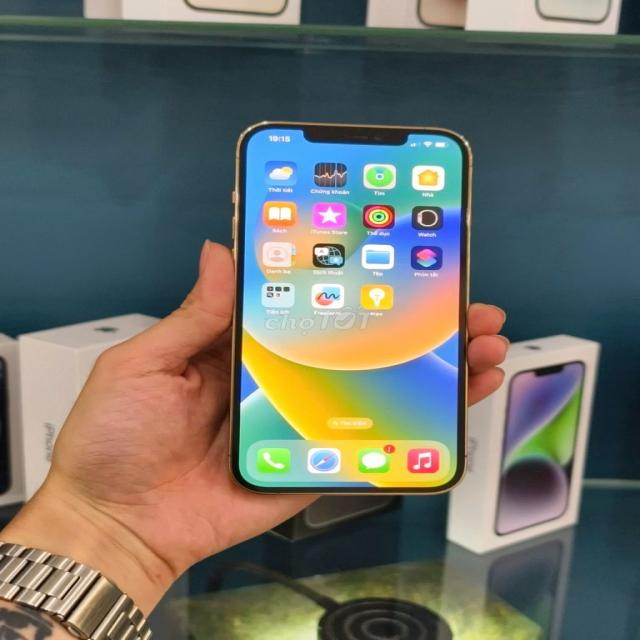gen_12_13: (228, 115, 478, 503)
